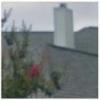chimneys: (54, 2, 75, 50)
